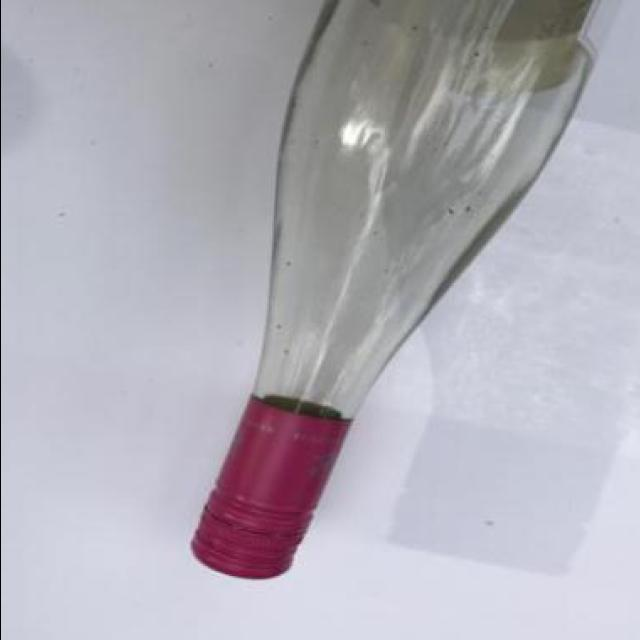kaca: (207, 0, 640, 539)
